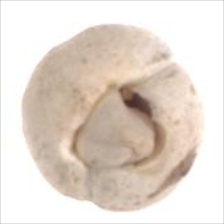L3: (64, 77, 165, 173)
L4: (21, 23, 205, 212)
